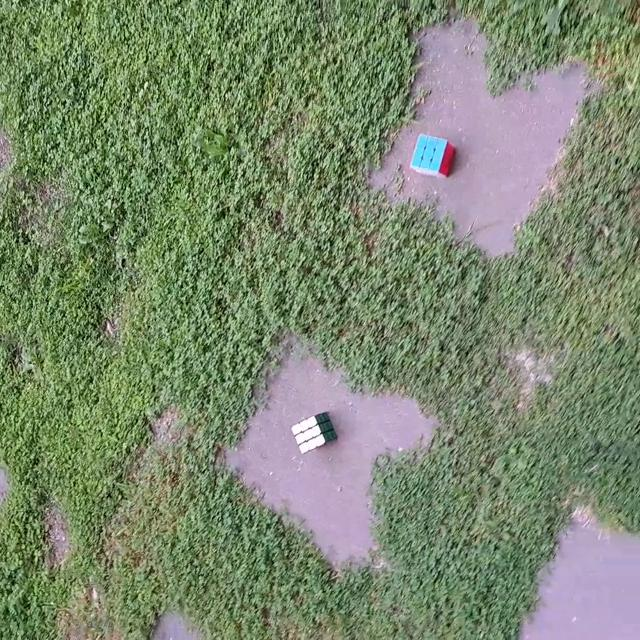rubix_cube: (409, 132, 457, 178), (290, 411, 338, 456)
